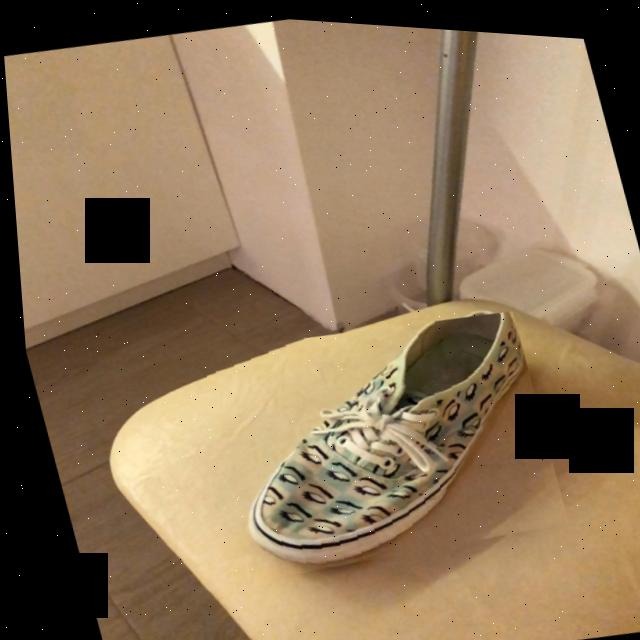shoe: (240, 305, 522, 566)
